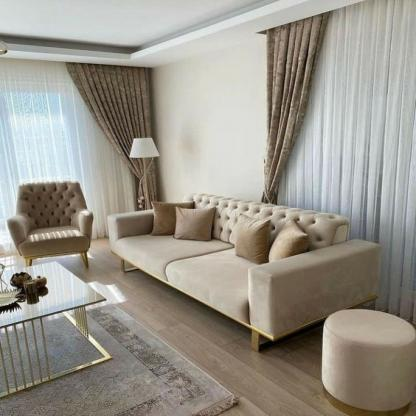Curtains: (254, 8, 416, 319), (0, 56, 151, 250)
Wooden floor: (56, 241, 416, 416), (60, 242, 416, 416)
